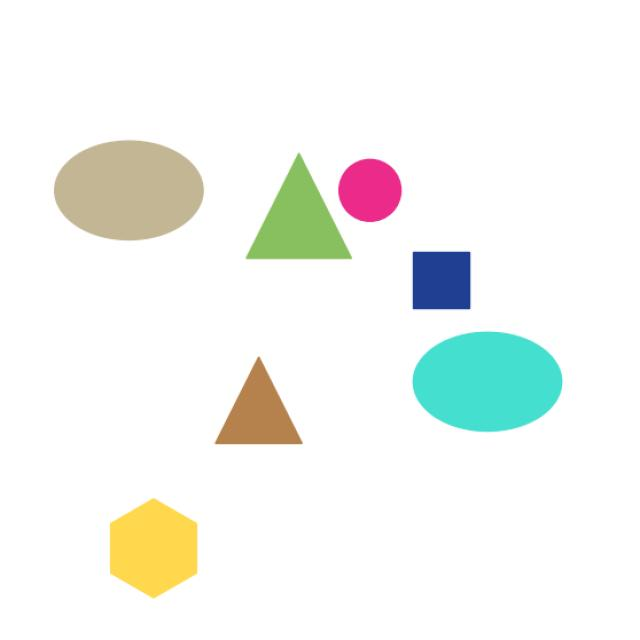Circle: (333, 155, 417, 236)
Hexagon: (94, 478, 210, 607)
Oval: (387, 320, 569, 450), (42, 135, 222, 249)
Triangle: (237, 139, 356, 270), (211, 335, 314, 462)
square: (403, 238, 482, 309)
